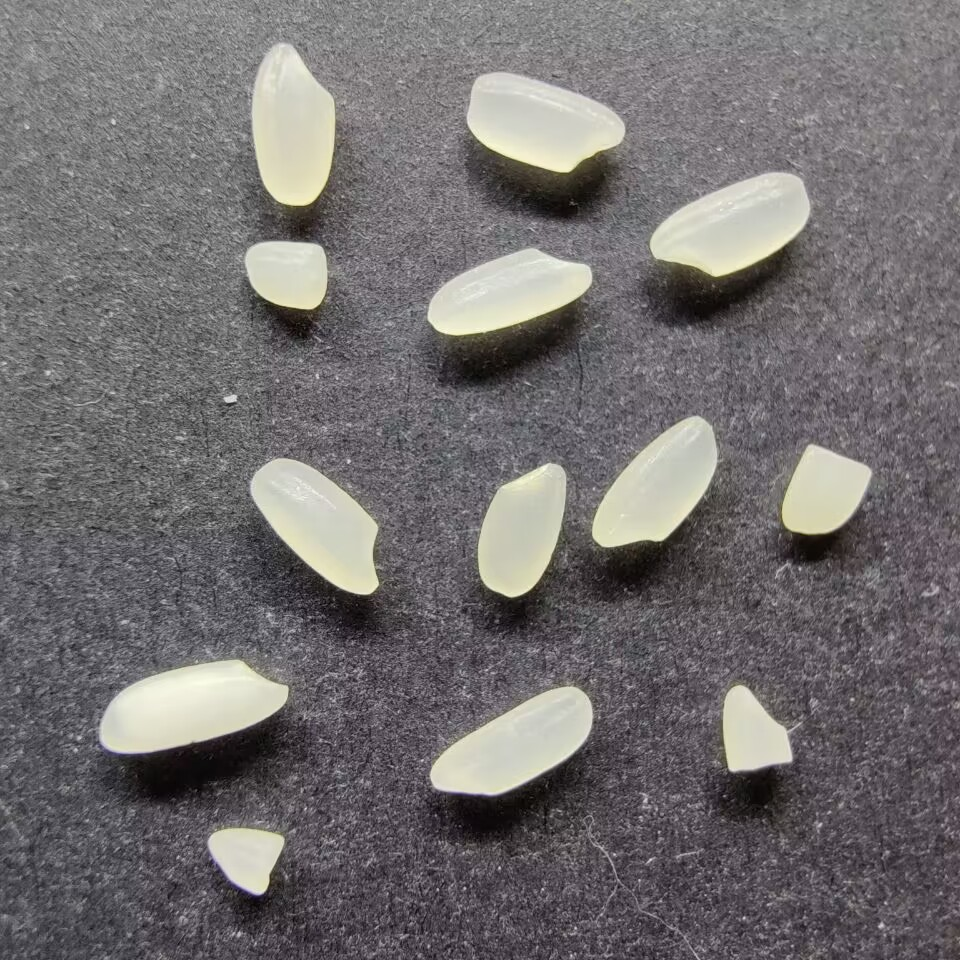broken: (779, 441, 873, 537), (242, 237, 330, 311), (721, 681, 792, 772), (204, 824, 286, 899)
rice: (247, 456, 384, 598), (428, 684, 595, 798), (97, 658, 290, 755), (587, 413, 719, 548), (647, 170, 809, 278), (463, 70, 627, 174), (424, 245, 594, 337), (248, 41, 336, 207), (475, 460, 569, 598)
